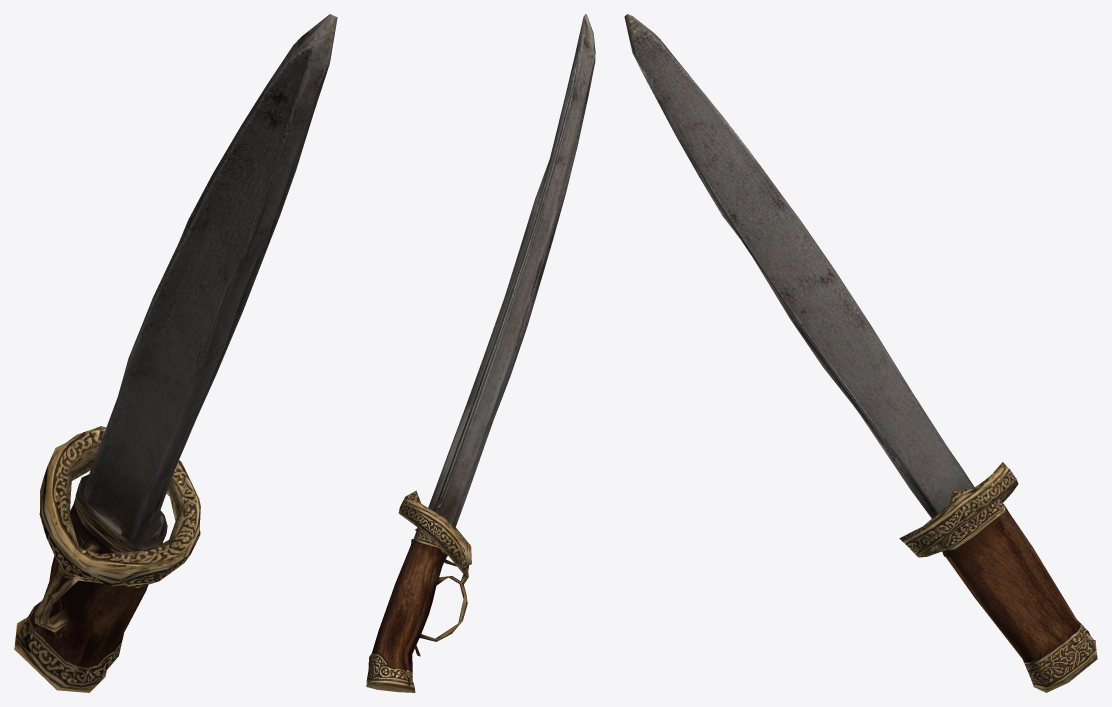
The model's file is cavalry_base_melee.glb.
3 views of the same model, side by side, from view 1: azimuth 30°, elevation 25°; view 2: azimuth 150°, elevation 25°; view 3: azimuth 270°, elevation 25° (orthographic). The views are drawn at different scales.
Visible parts, largest first — view 1: tripo_node_0775787f-f689-4154-95d3-bf10222d92ca; view 2: tripo_node_0775787f-f689-4154-95d3-bf10222d92ca; view 3: tripo_node_0775787f-f689-4154-95d3-bf10222d92ca.
Boxes of the visible parts, x1,y1,x2,y2 form: tripo_node_0775787f-f689-4154-95d3-bf10222d92ca: [14, 14, 337, 692]; tripo_node_0775787f-f689-4154-95d3-bf10222d92ca: [366, 14, 595, 692]; tripo_node_0775787f-f689-4154-95d3-bf10222d92ca: [624, 14, 1097, 692].
Size of the model in its own units: 0.064 by 0.4363 by 0.2824.
Materials: 1 (1 with a texture image).
